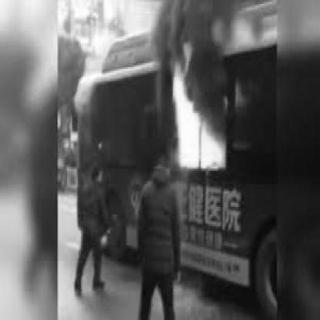Fire: (171, 51, 223, 171)
